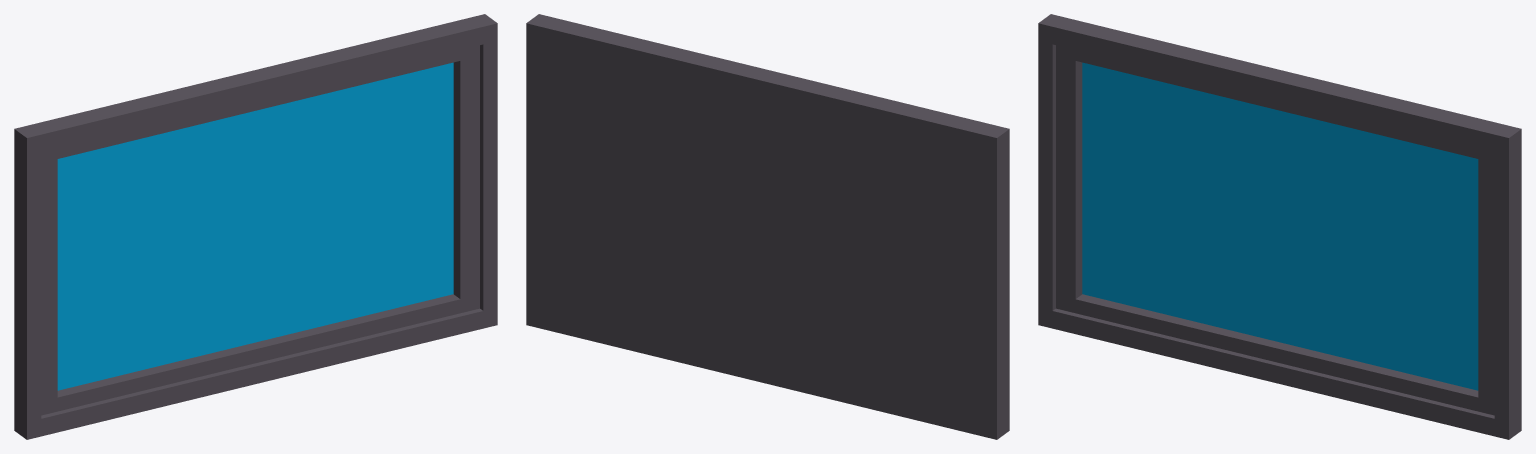
Rendered from tableau.fbx.
The picture shows the model from 3 angles, left to right: view 1: azimuth 30°, elevation 25°; view 2: azimuth 150°, elevation 25°; view 3: azimuth 330°, elevation 25°; orthographic projection.
Visible parts, largest first — view 1: pCube2; view 2: pCube2; view 3: pCube2.
Boxes of the visible parts, x1,y1,x2,y2 form: pCube2: (14,14,497,439); pCube2: (526,14,1009,439); pCube2: (1038,14,1521,439).
Size of the model in its own units: 2 by 1.23 by 0.0935.
